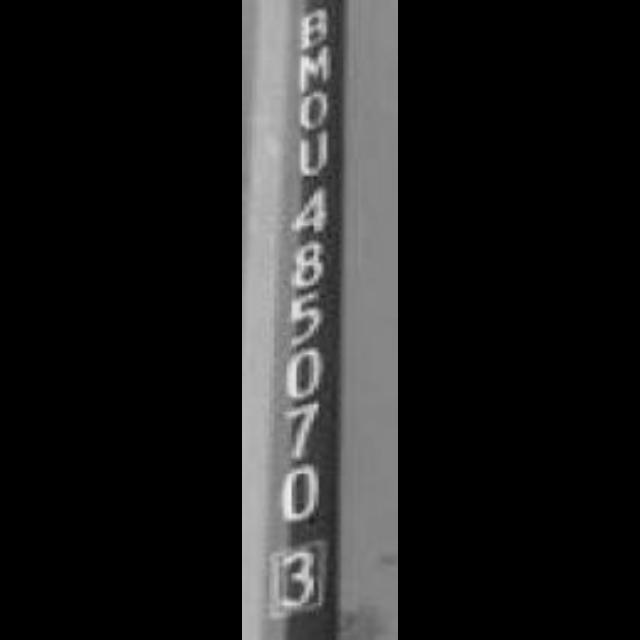0: (278, 343, 328, 405), (276, 462, 324, 524)
3: (268, 537, 326, 619)
4: (288, 182, 334, 240)
5: (282, 288, 328, 352)
7: (277, 399, 333, 466)
8: (286, 236, 332, 294)
b: (296, 0, 336, 48)
m: (291, 41, 341, 100)
o: (290, 90, 338, 136)
u: (290, 125, 336, 183)
